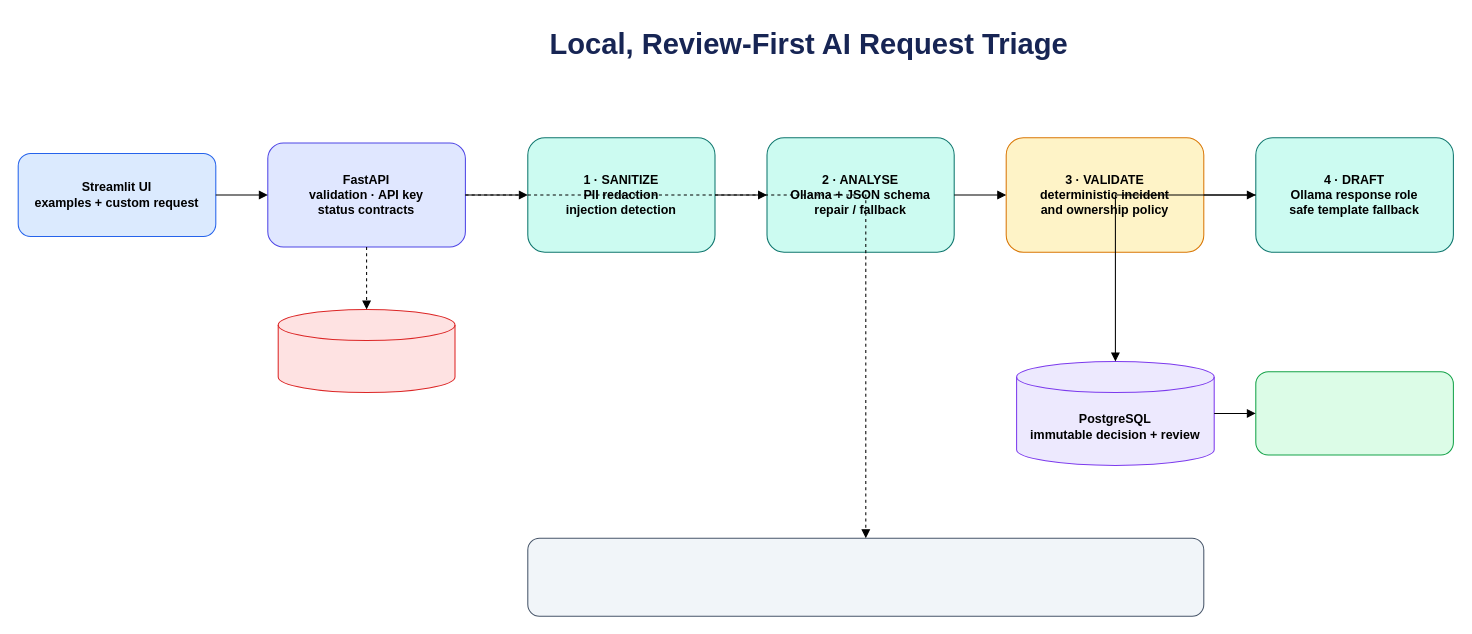
Some shapes in this 1472 by 634 pixel diagram are drawn without their labels. The shapes that lost their labels are listed below. From the top down, each one's centre as x and y in pixels, then its label:
At pixel 366 350: "Redis distributed rate limit".
At pixel 1354 413: "Human Review approve · correct · reject".
At pixel 865 576: "Observability JSON logs · request IDs · Prometheus metrics · node trace".
